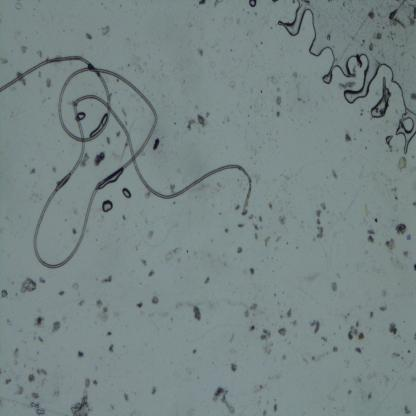Air bubble: (274, 0, 415, 156), (370, 77, 390, 118), (98, 170, 124, 191), (90, 112, 108, 138), (29, 402, 45, 415), (101, 200, 114, 214), (121, 188, 133, 200), (76, 111, 86, 122), (385, 134, 393, 147), (249, 1, 258, 10)
Background material: (212, 384, 236, 416), (71, 388, 92, 415), (316, 199, 327, 240), (261, 326, 275, 358), (387, 8, 406, 31), (163, 244, 182, 264), (19, 276, 38, 296), (95, 298, 109, 322), (345, 327, 366, 343), (406, 0, 416, 25), (31, 314, 47, 329), (384, 235, 396, 254), (92, 149, 106, 165), (249, 384, 266, 397), (192, 304, 203, 324), (338, 78, 356, 90), (310, 318, 321, 337), (395, 221, 407, 238), (98, 25, 112, 39), (49, 320, 62, 335), (82, 152, 92, 171), (269, 74, 282, 88), (329, 278, 340, 294), (396, 156, 407, 172), (197, 113, 208, 129), (149, 293, 160, 308), (186, 118, 198, 131), (360, 203, 371, 217), (151, 137, 161, 152), (389, 320, 398, 336), (227, 328, 237, 342), (35, 331, 45, 345), (13, 348, 20, 367), (343, 133, 355, 144), (367, 11, 378, 23), (84, 30, 95, 42), (25, 165, 38, 175), (278, 213, 288, 226), (278, 327, 288, 340), (263, 234, 271, 249), (273, 233, 283, 245), (286, 306, 294, 321), (221, 223, 231, 235), (230, 360, 238, 374), (365, 42, 376, 52), (168, 183, 178, 194), (20, 43, 30, 54), (354, 345, 364, 356), (253, 223, 259, 241), (0, 288, 9, 300), (319, 335, 328, 347), (3, 376, 12, 388), (122, 392, 131, 404), (368, 229, 375, 244), (77, 298, 86, 309), (274, 96, 283, 107), (375, 28, 382, 42), (331, 165, 338, 179), (268, 198, 275, 212), (44, 77, 52, 89), (147, 228, 155, 240), (196, 47, 204, 59), (250, 302, 258, 314), (72, 280, 80, 292), (393, 186, 400, 199), (235, 246, 244, 256), (15, 387, 25, 396), (247, 267, 256, 277), (0, 56, 9, 66), (27, 374, 35, 385), (108, 345, 116, 356), (101, 276, 112, 284), (105, 132, 112, 144), (57, 290, 66, 299), (365, 391, 375, 399), (248, 326, 258, 334), (368, 310, 376, 320), (236, 221, 246, 229), (392, 352, 402, 360), (32, 390, 40, 400), (243, 310, 251, 320), (378, 304, 388, 312), (403, 249, 410, 260), (141, 191, 150, 199), (332, 345, 340, 354), (38, 276, 47, 284), (4, 320, 14, 327), (151, 387, 158, 397), (37, 370, 48, 376), (204, 276, 212, 284), (137, 300, 144, 309), (84, 378, 91, 387), (404, 404, 410, 414), (273, 404, 279, 414), (141, 258, 147, 268), (190, 347, 197, 355), (78, 350, 85, 358), (214, 0, 221, 8), (274, 112, 282, 119), (235, 18, 242, 25), (106, 331, 113, 338), (260, 410, 268, 416), (291, 72, 299, 78), (411, 92, 416, 101), (327, 34, 332, 43), (270, 0, 279, 5), (116, 129, 121, 138), (199, 0, 206, 6), (147, 272, 154, 278), (407, 234, 412, 242), (93, 380, 99, 386), (298, 96, 304, 102), (310, 353, 314, 362), (258, 214, 262, 222), (374, 217, 379, 223), (350, 390, 354, 397), (281, 313, 284, 321), (413, 264, 416, 271), (412, 202, 416, 207), (259, 90, 263, 93)
Microfibre: (0, 54, 253, 273)
